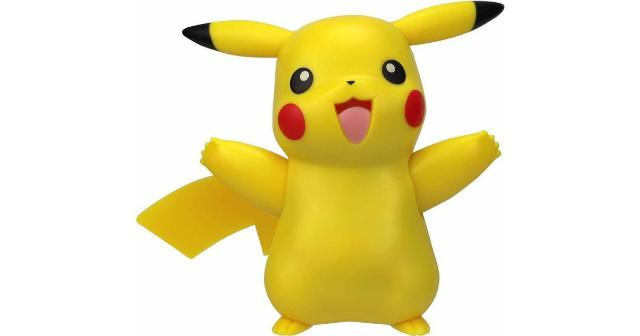pickachu: (136, 2, 504, 336)
